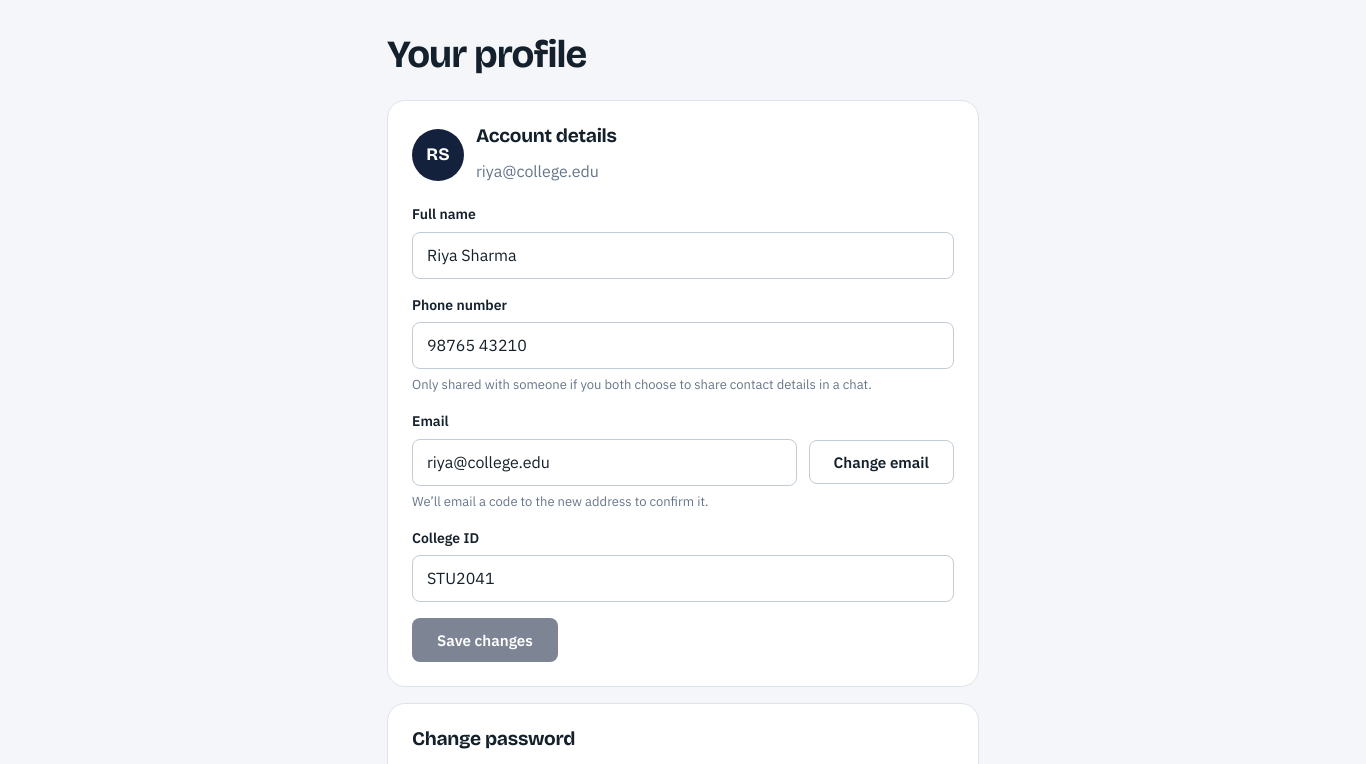
Test: Profile — change email › step 1 validates locally: bad address, same address, missing password
Click the button "Change email".
click(881, 462)  # box 808,440 -> 954,484
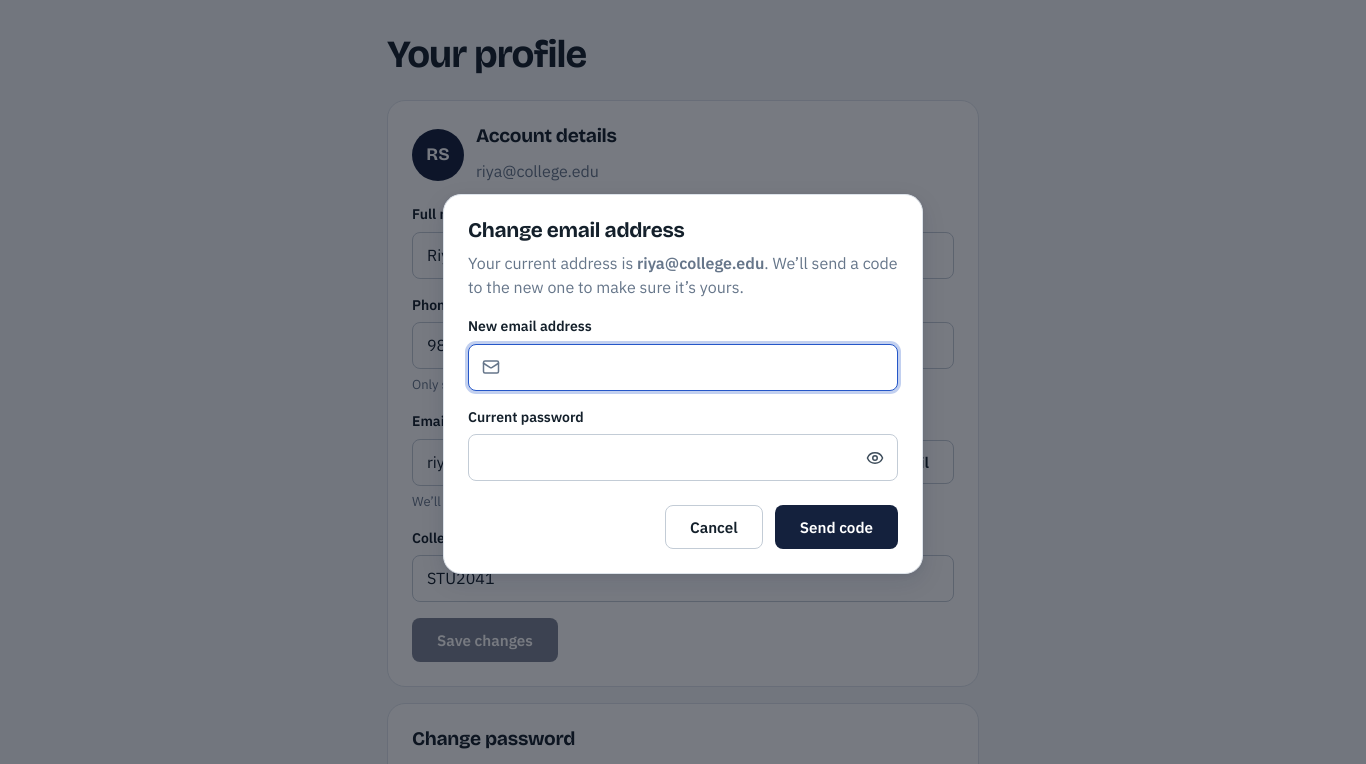
Type "nope" into the field labelled "New email address".
click(683, 367); type("nope")  # box 468,344 -> 898,391
Click the button "Send code".
click(836, 527)  # box 775,505 -> 898,549
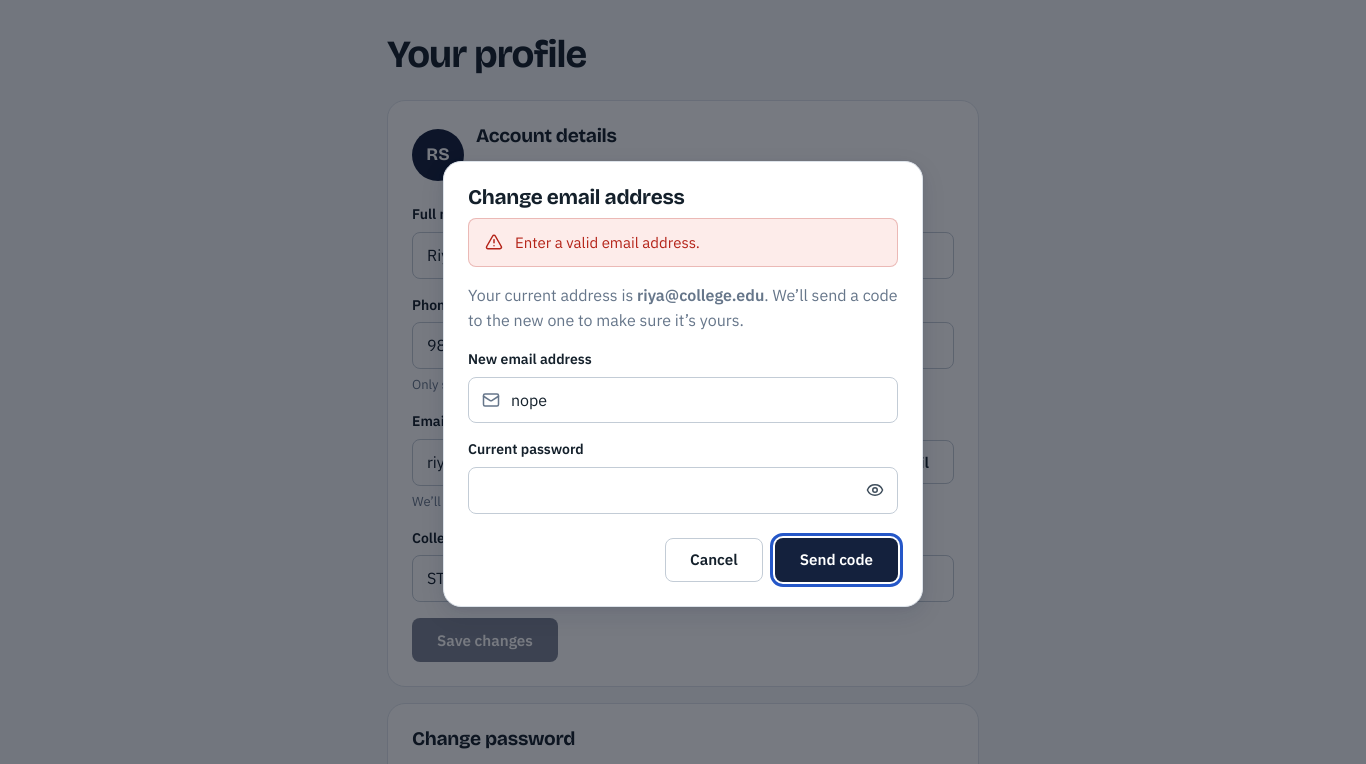
Expected: the message shows "valid email", 515,233 -> 700,252
Replace the text in the field labelled "New email address" with "riya@college.edu" at (683, 400), box 468,377 -> 898,423
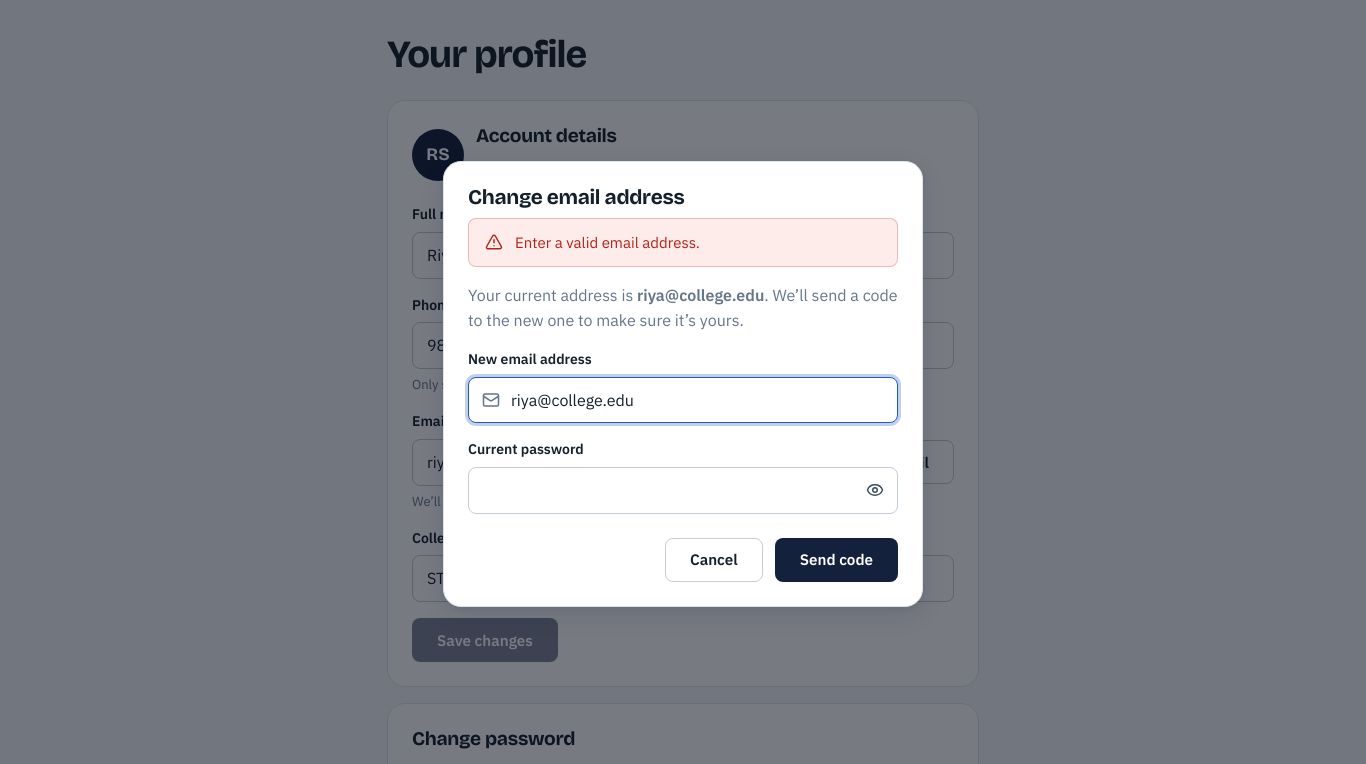
Click the button "Send code".
click(836, 560)  # box 775,538 -> 898,582
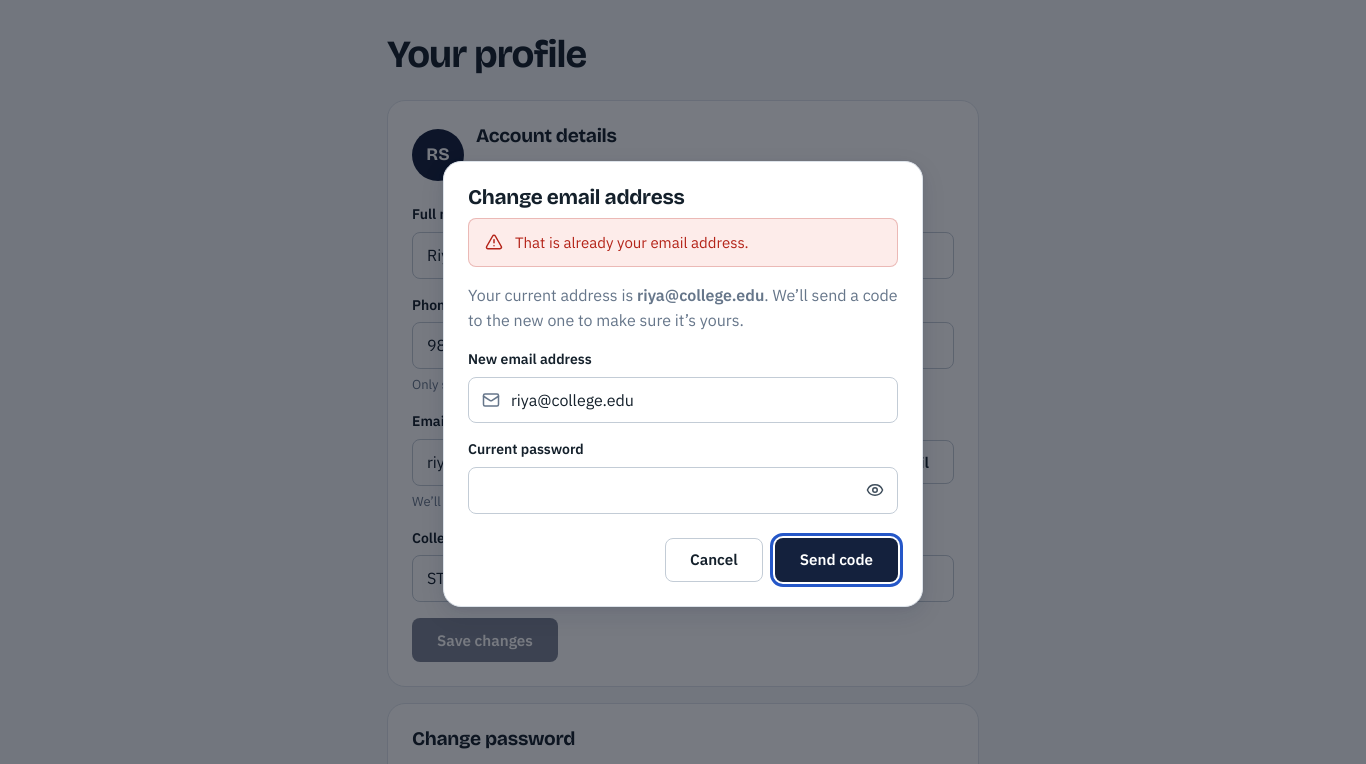
Expected: the message shows "already your email", 515,233 -> 749,252
Replace the text in the field labelled "New email address" with "other@college.edu" at (683, 400), box 468,377 -> 898,423
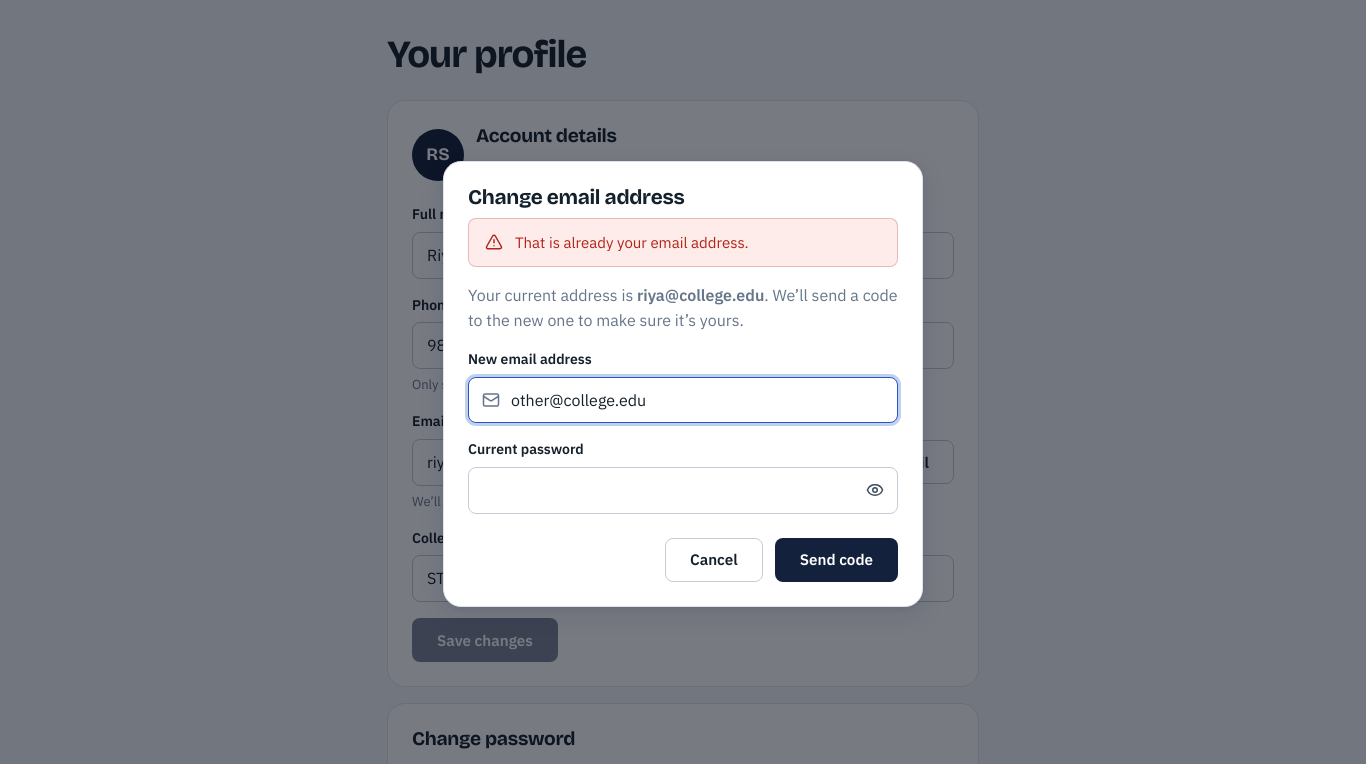
Click the button "Send code".
click(836, 560)  # box 775,538 -> 898,582
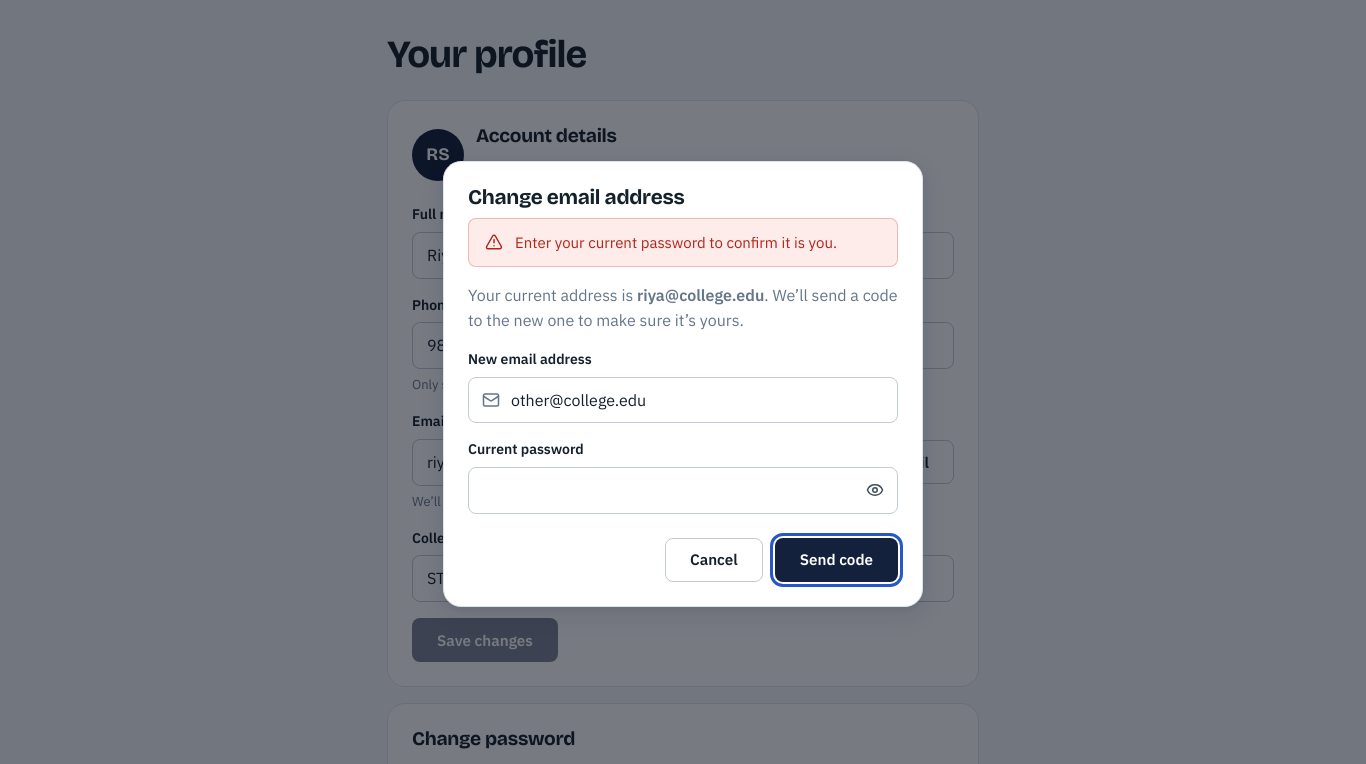
Expected: the message shows "current password", 515,233 -> 837,252
